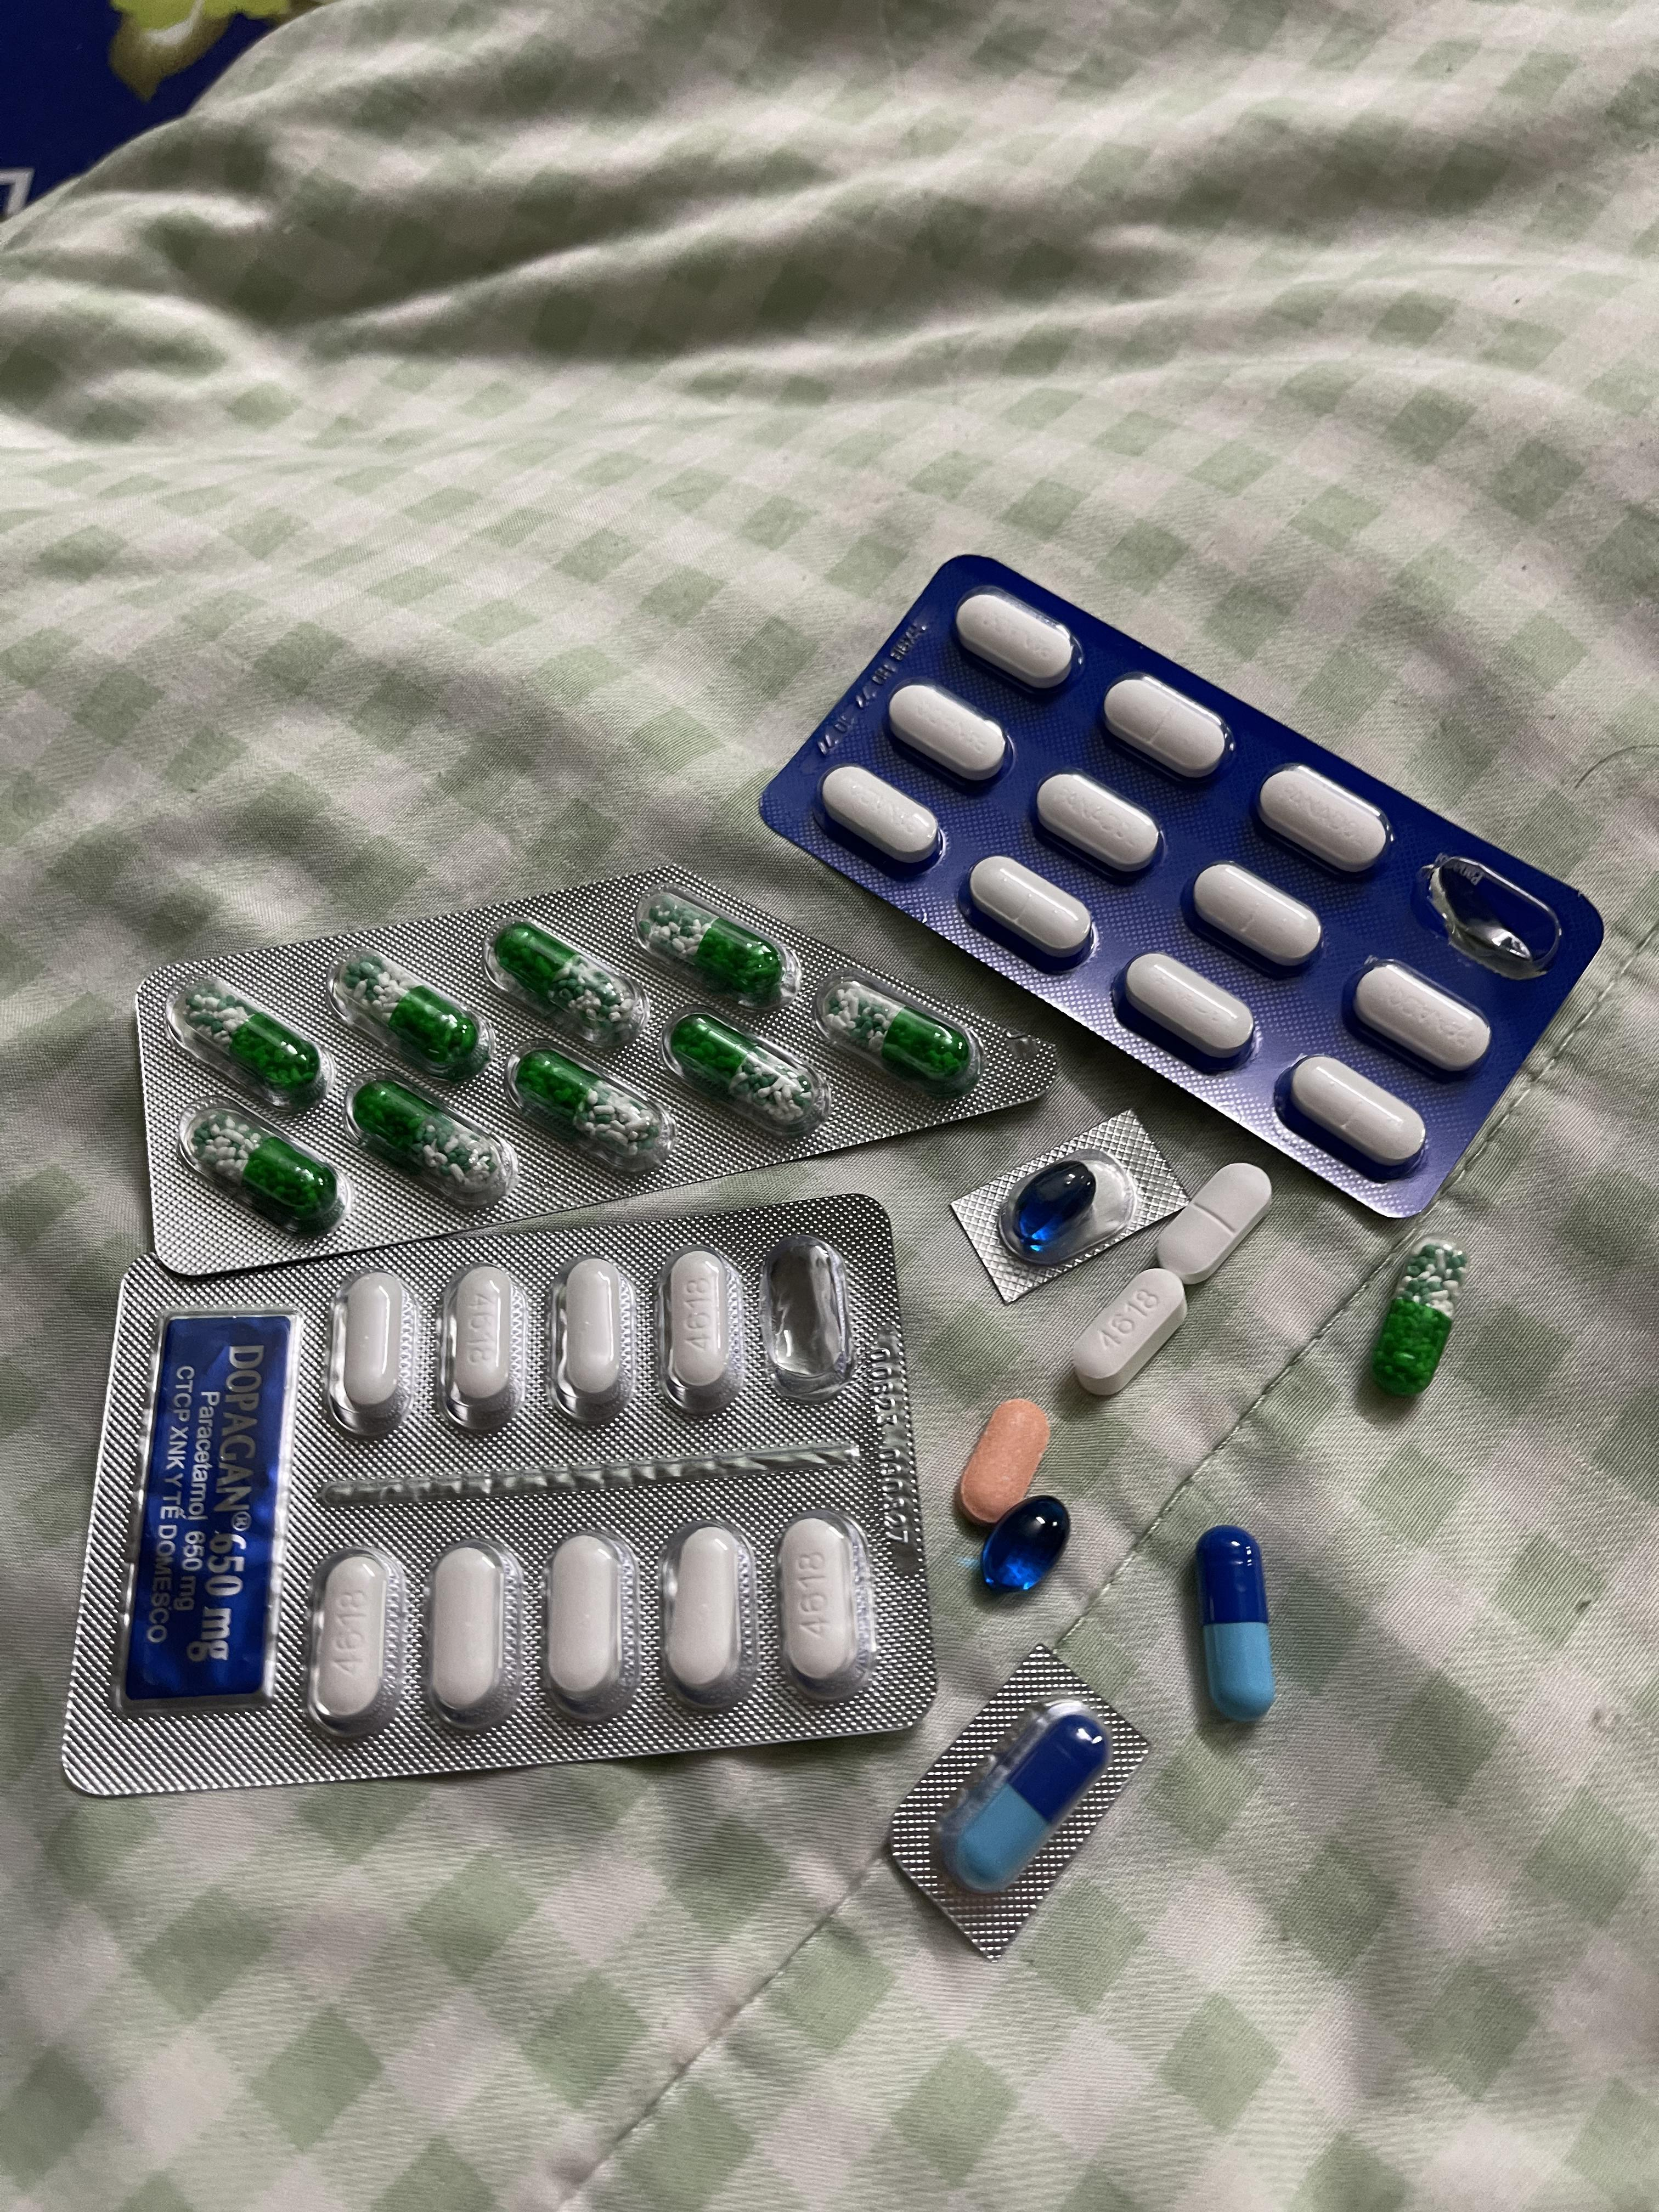Lincomyxin_500mg: (974, 1494, 1070, 1594), (1011, 1162, 1100, 1245)
Loratadine_10mg: (957, 1404, 1049, 1524)
Paracetamol_350mg: (1347, 958, 1490, 1073), (1284, 1055, 1429, 1167), (1119, 953, 1256, 1062), (1152, 1163, 1276, 1285), (1255, 765, 1392, 873), (1188, 862, 1324, 967), (1101, 674, 1232, 780), (967, 853, 1093, 961), (1033, 772, 1161, 874), (955, 589, 1079, 691), (887, 683, 1011, 782), (819, 765, 939, 866)
Paracetamol_500mg: (303, 1543, 408, 1745), (769, 1510, 875, 1698), (425, 1538, 526, 1735), (542, 1533, 641, 1726), (549, 1254, 641, 1423), (655, 1245, 744, 1413), (664, 1524, 748, 1696), (1072, 1266, 1187, 1392), (441, 1264, 526, 1432), (329, 1268, 416, 1432)
Paracetamol_650mg: (511, 1045, 676, 1169), (352, 1078, 509, 1198), (190, 1108, 342, 1230), (342, 953, 481, 1066), (498, 925, 641, 1035), (1371, 1238, 1466, 1393), (835, 982, 974, 1087), (181, 982, 315, 1089), (671, 1014, 807, 1116), (647, 897, 782, 998)
pill: (941, 1703, 1108, 1893), (1197, 1522, 1274, 1717)
